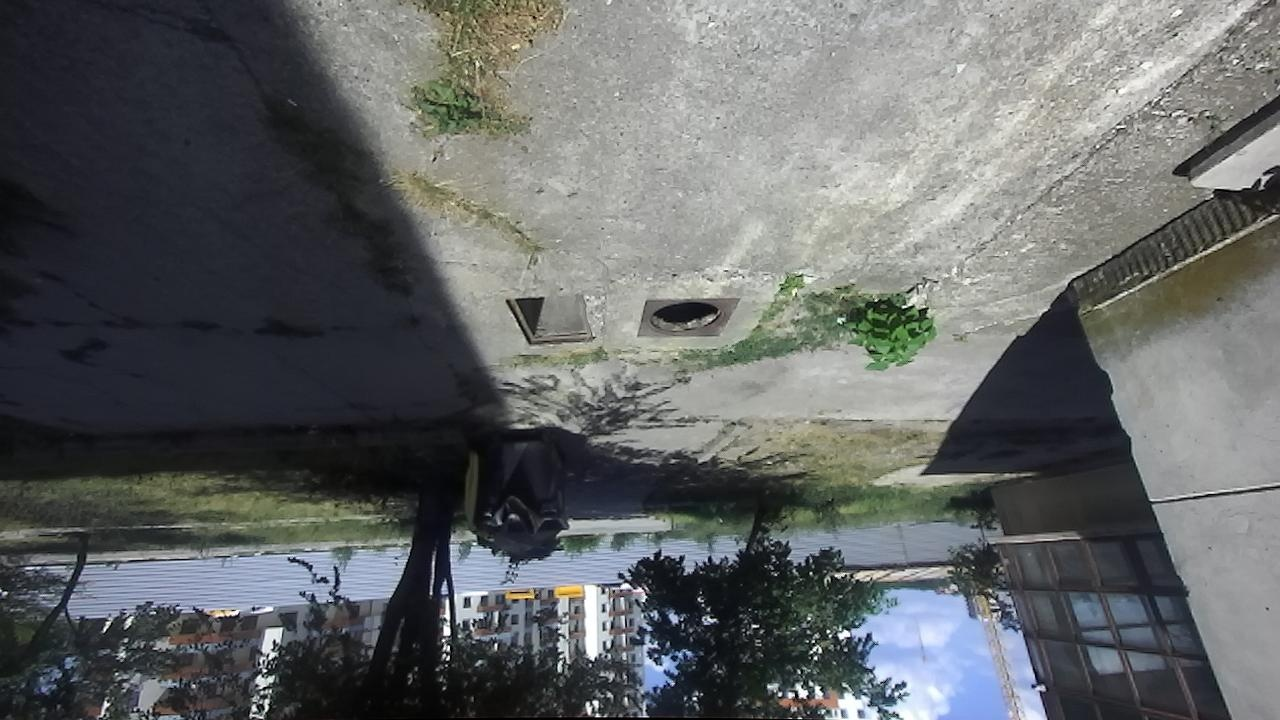drain: (503, 296, 595, 345), (642, 297, 727, 337)
